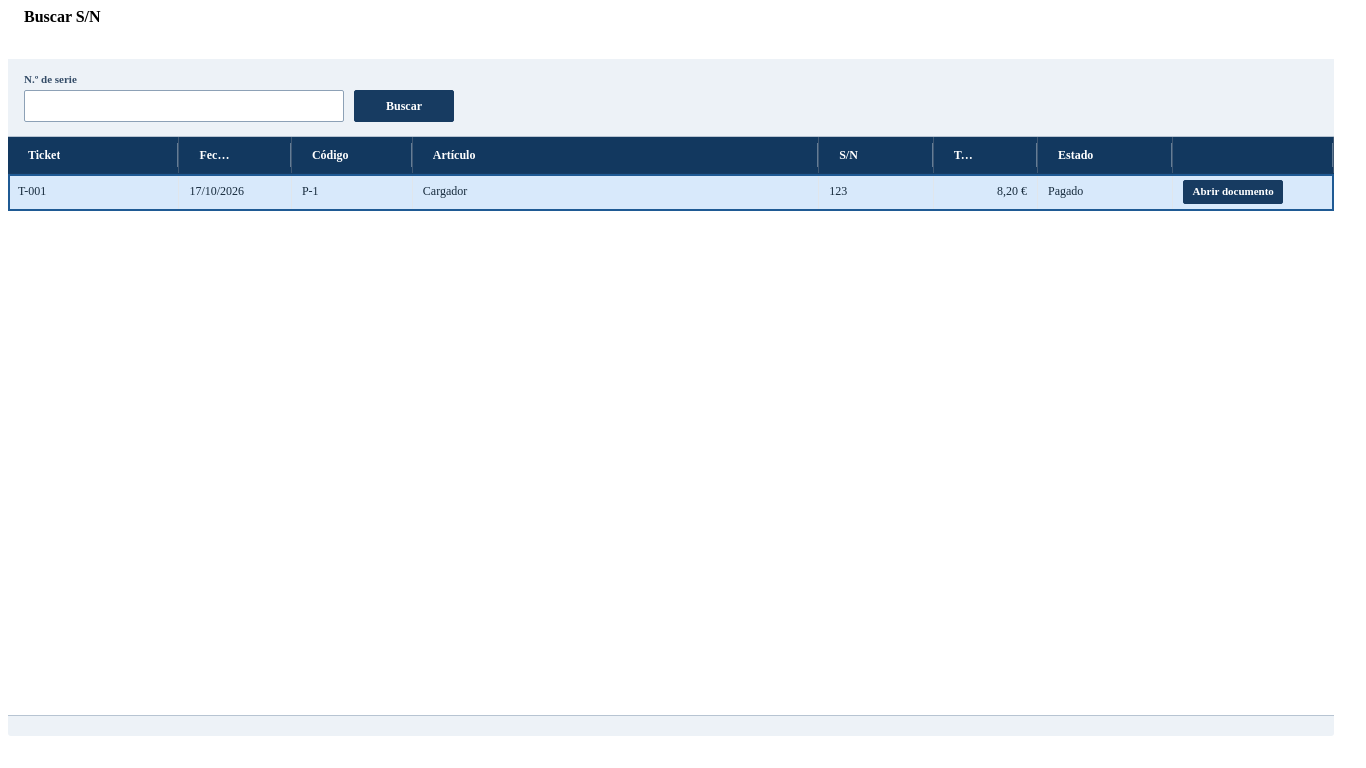
Ticket serial search › keeps the same table header while loading and after a filter has no matches
Check: the element showing "Ticket Fecha Código Artículo S/N Total Estado" is shown, box left=8, top=137, right=1334, bottom=174
Check: the text "T-001" is shown, box left=8, top=174, right=179, bottom=210
Type "missing" into the field at coordinates (184, 106), box left=24, top=90, right=344, bottom=122
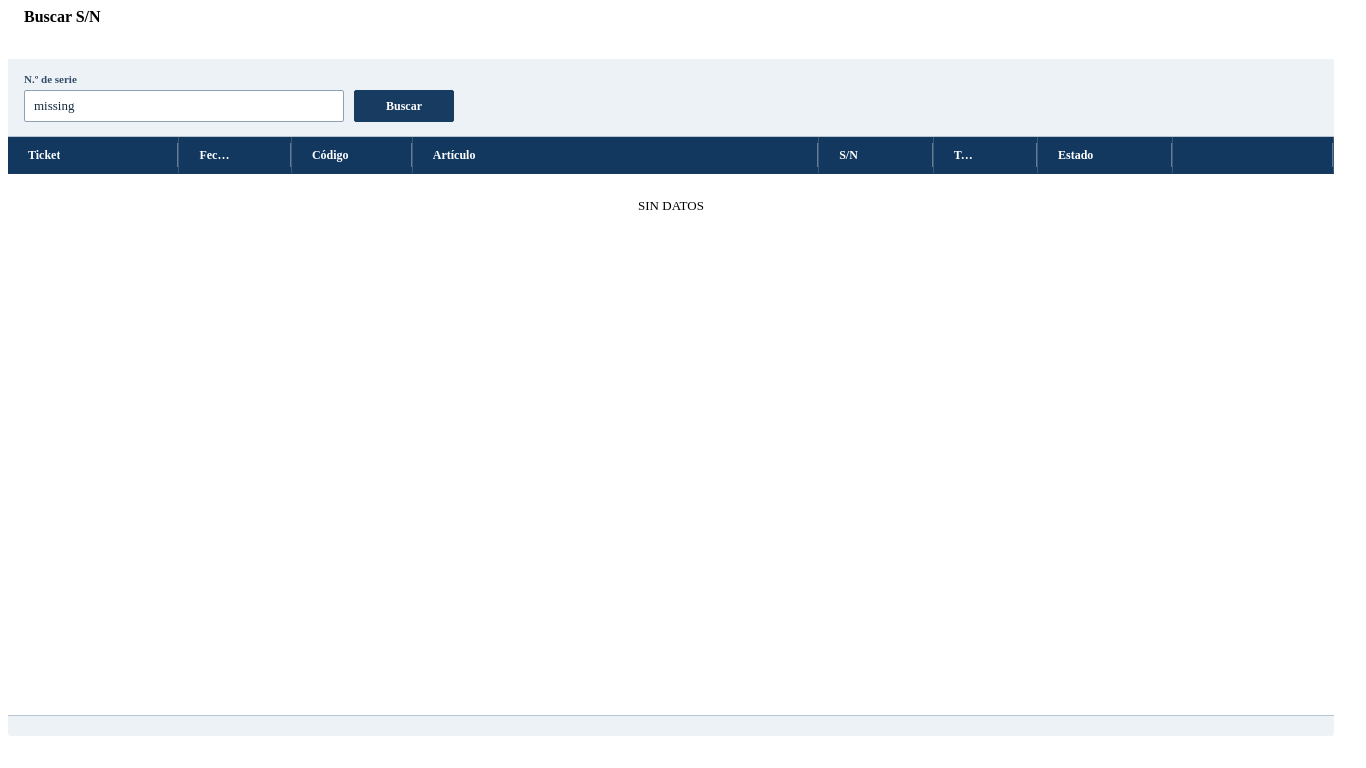
Check: the text "SIN DATOS" is shown, box left=638, top=198, right=704, bottom=213
